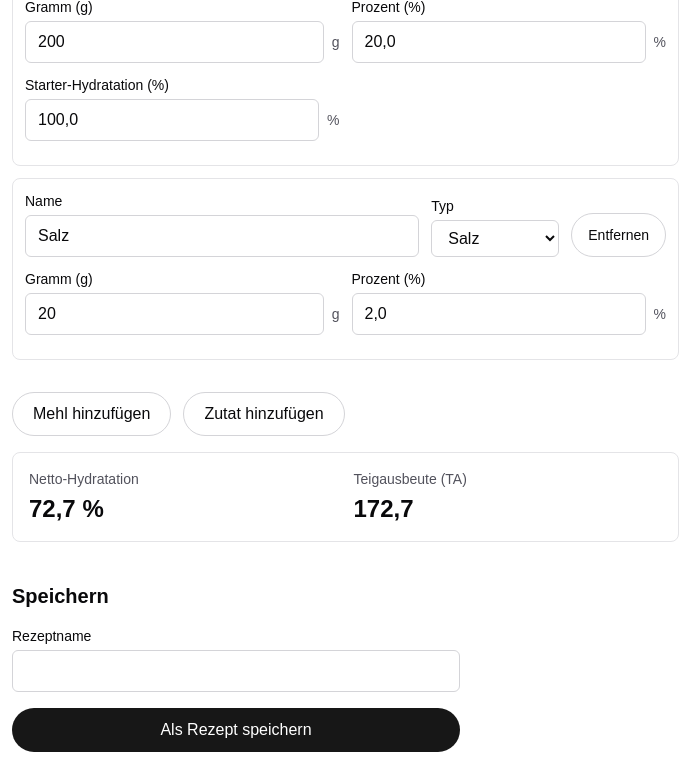
Test case: F010 Speichern im Konto (angemeldet, online) › F010/AC-8 die Bestätigung steht in einem höflichen Live-Bereich
The width and height of the screenshot is (696, 768).
(page scrolled)
In the field labelled "Rezeptname": x=236, y=671 [12,650,460,692], type "Landbrot"
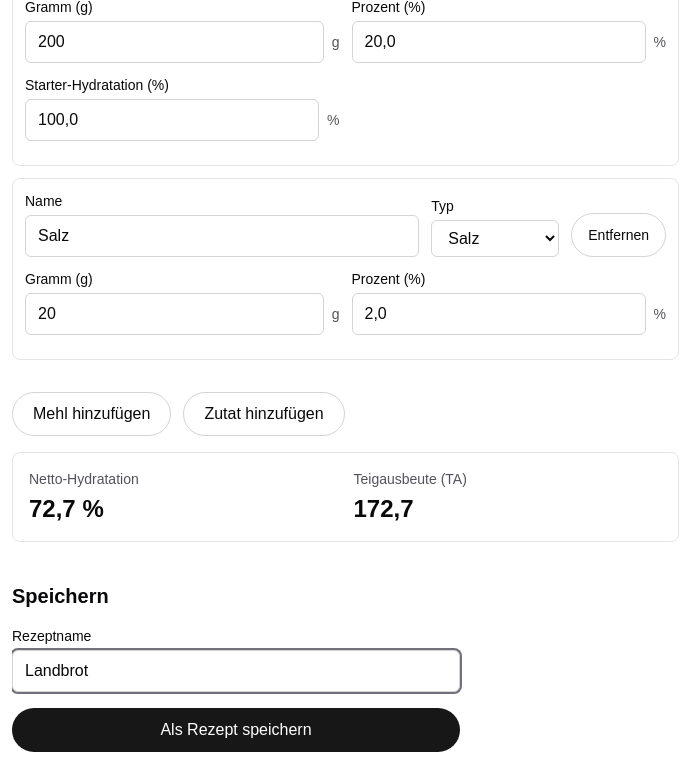
Click the button "Als Rezept speichern": x=236, y=730 [12,708,460,752]
(page scrolled)
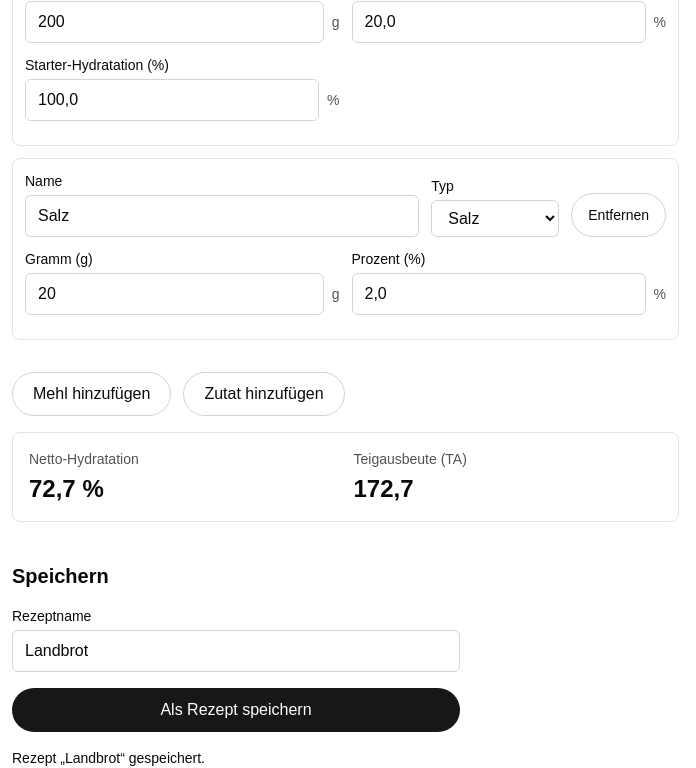
Result: the text "Rezept „Landbrot“ gespeichert." is shown at [12,750,205,766]
